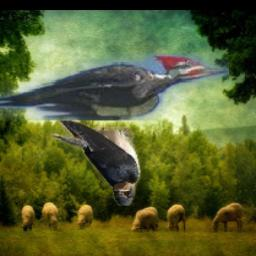Swallow: (50, 121, 141, 207)
Woodpecker: (0, 54, 228, 121)
